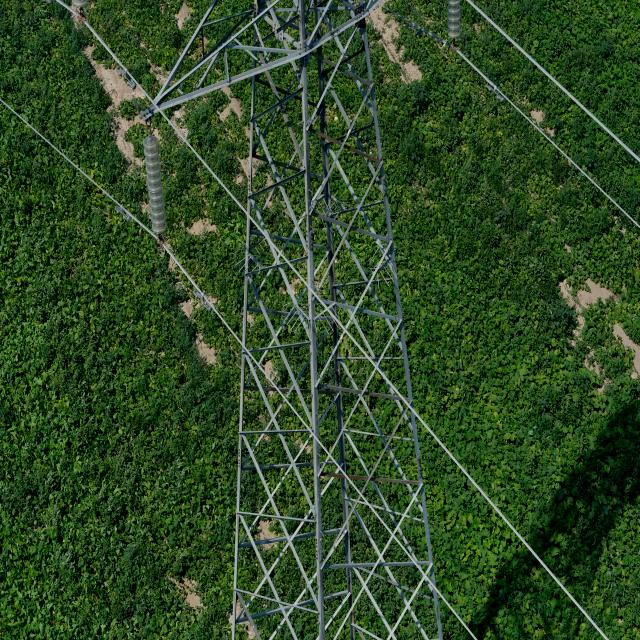voltage_line: (150, 6, 442, 640)
